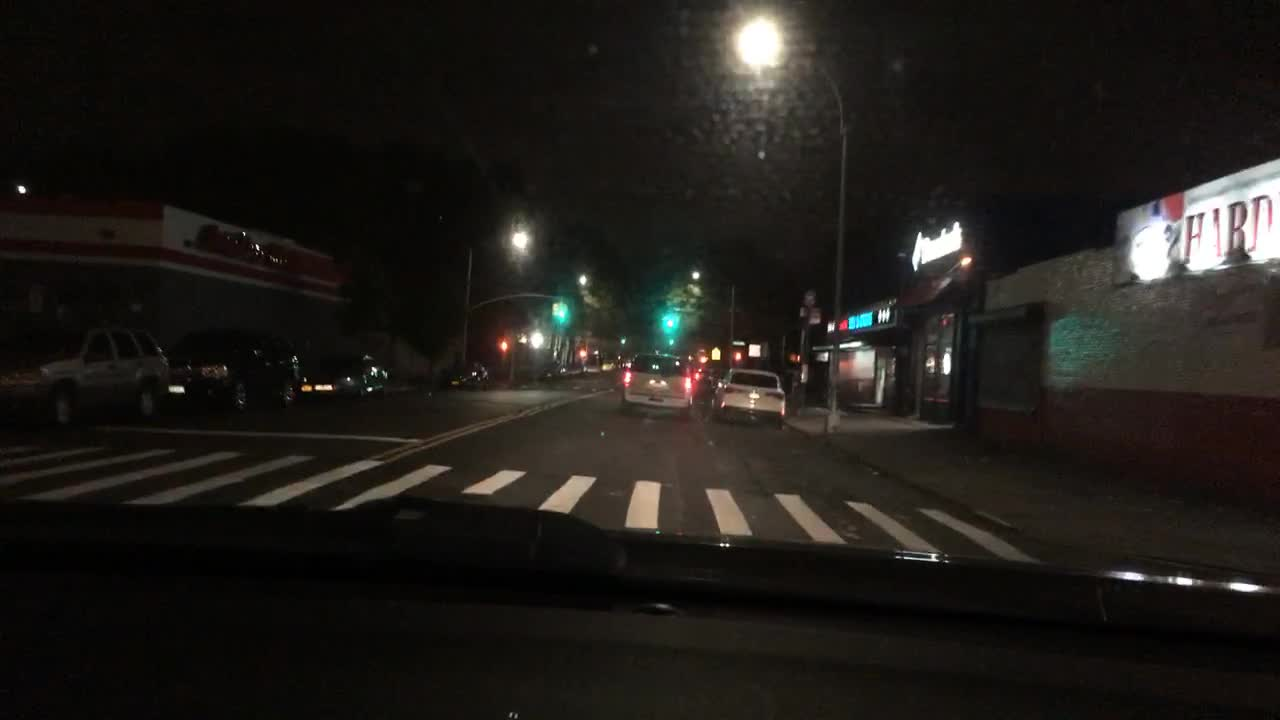car: (0, 318, 173, 434), (160, 329, 301, 411), (618, 351, 694, 418), (708, 365, 785, 430), (301, 353, 388, 402), (445, 361, 489, 388)
traffic light: (554, 299, 565, 321), (665, 311, 676, 331)
traffic sign: (712, 347, 722, 361)
